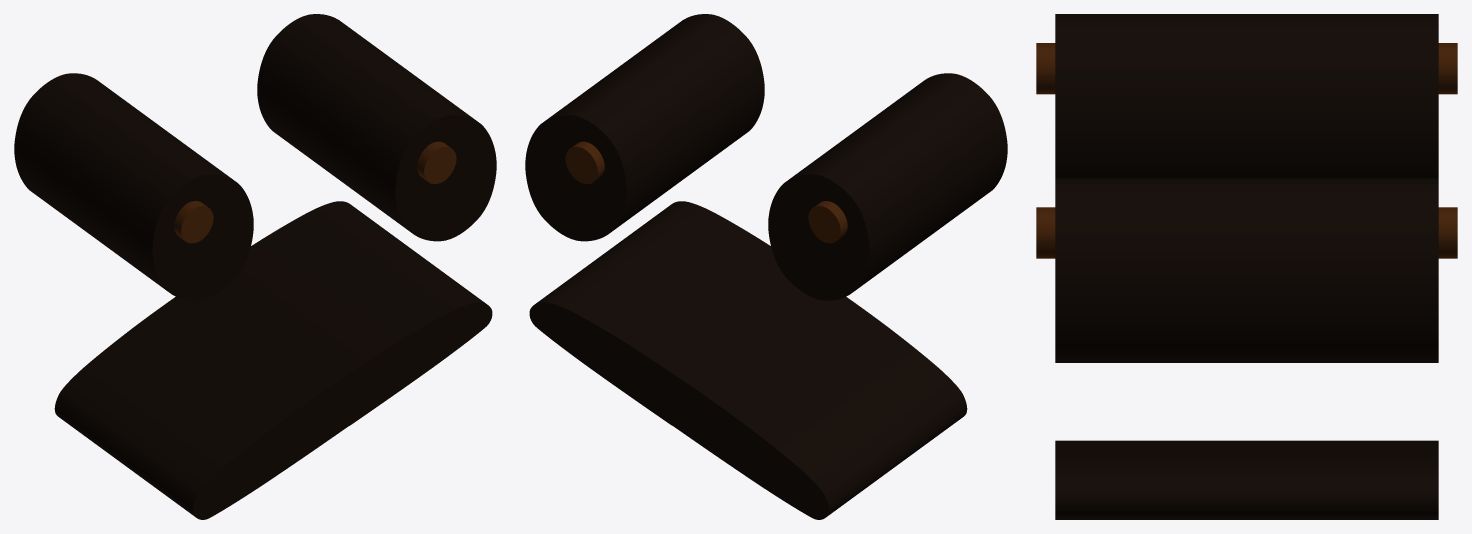
Rendered from U+1FAE4.obj.
The picture shows the model from 3 angles, left to right: view 1: azimuth 30°, elevation 25°; view 2: azimuth 150°, elevation 25°; view 3: azimuth 270°, elevation 25°; orthographic projection. The views are drawn at different scales.
Parts seen in each view (by area): view 1: U+1FAE4_layer00_obj01, U+1FAE4_layer00_obj02, U+1FAE4_layer00_obj00, U+1FAE4_layer01_obj00, U+1FAE4_layer01_obj01; view 2: U+1FAE4_layer00_obj01, U+1FAE4_layer00_obj02, U+1FAE4_layer00_obj00, U+1FAE4_layer01_obj00, U+1FAE4_layer01_obj01; view 3: U+1FAE4_layer00_obj02, U+1FAE4_layer00_obj00, U+1FAE4_layer00_obj01, U+1FAE4_layer01_obj01, U+1FAE4_layer01_obj00.
Boxes of the visible parts, x1,y1,x2,y2 form: U+1FAE4_layer00_obj01: [54, 201, 492, 519]; U+1FAE4_layer00_obj02: [257, 14, 496, 241]; U+1FAE4_layer00_obj00: [14, 73, 253, 300]; U+1FAE4_layer01_obj00: [174, 201, 213, 243]; U+1FAE4_layer01_obj01: [417, 141, 456, 183]; U+1FAE4_layer00_obj01: [529, 201, 967, 519]; U+1FAE4_layer00_obj02: [525, 14, 764, 241]; U+1FAE4_layer00_obj00: [768, 73, 1007, 300]; U+1FAE4_layer01_obj00: [808, 201, 847, 243]; U+1FAE4_layer01_obj01: [565, 141, 604, 183]; U+1FAE4_layer00_obj02: [1055, 178, 1438, 362]; U+1FAE4_layer00_obj00: [1055, 14, 1438, 178]; U+1FAE4_layer00_obj01: [1055, 440, 1438, 519]; U+1FAE4_layer01_obj01: [1036, 207, 1457, 258]; U+1FAE4_layer01_obj00: [1036, 43, 1457, 94].
Size of the model in its own units: 0.1438 by 0.1377 by 0.11.
